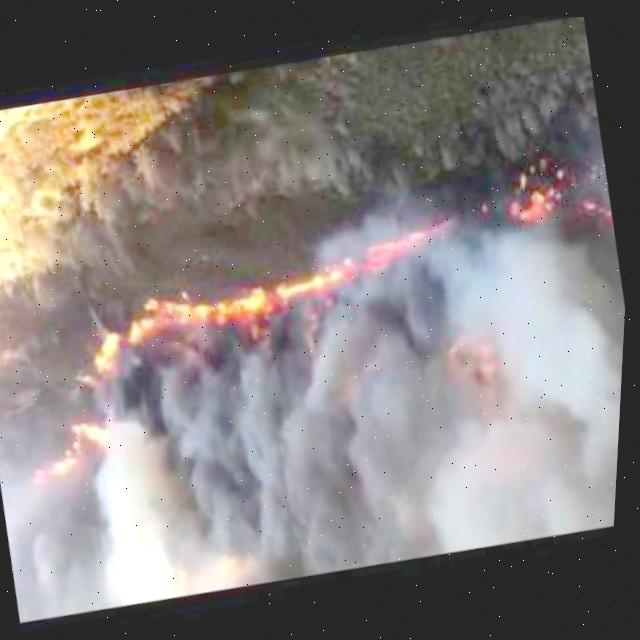Fire: (166, 244, 366, 339), (492, 149, 592, 239), (80, 308, 168, 379), (41, 414, 118, 483), (362, 211, 436, 279)
Smoke: (77, 219, 631, 618), (3, 476, 136, 623)
